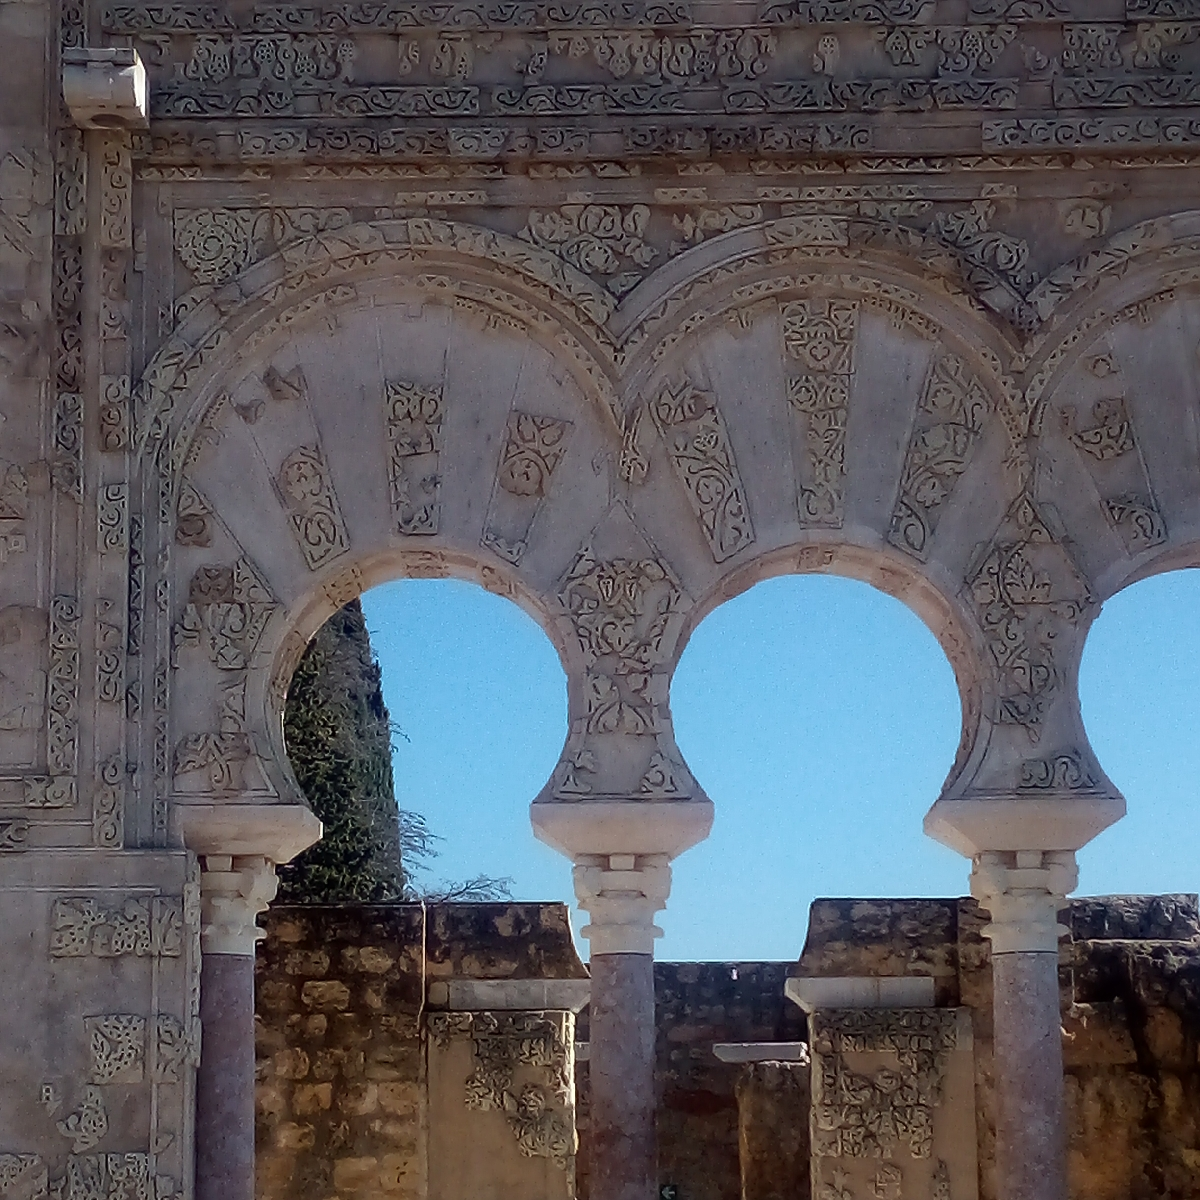arco-herradura: (604, 508, 1026, 901), (224, 522, 616, 893), (1021, 515, 1200, 866)
